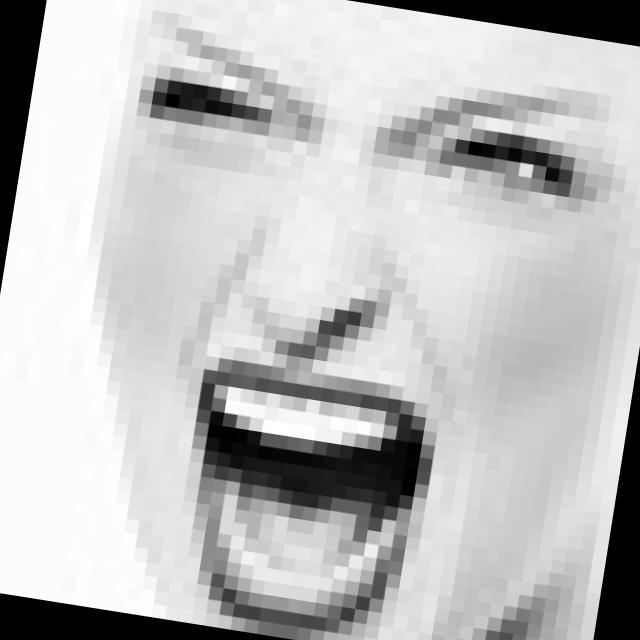angry: (55, 5, 616, 640)
